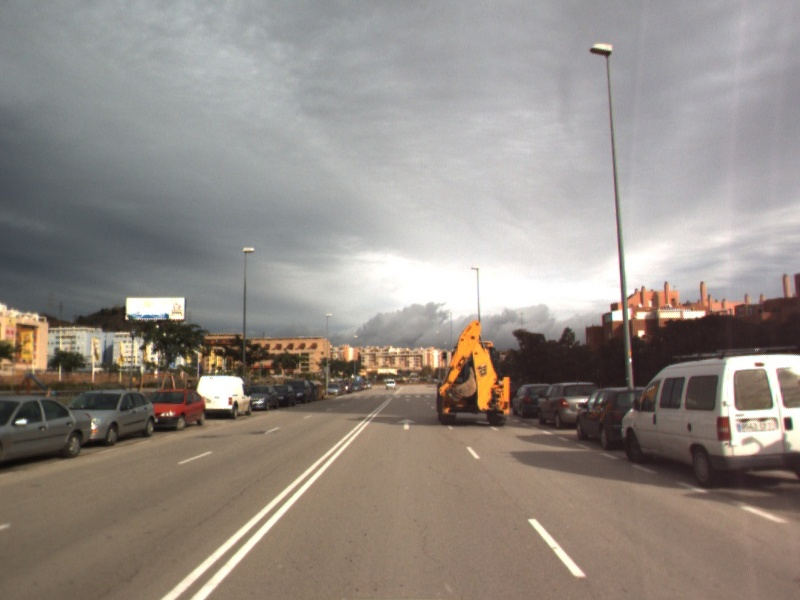STRAIGHT: (396, 416, 418, 431)
